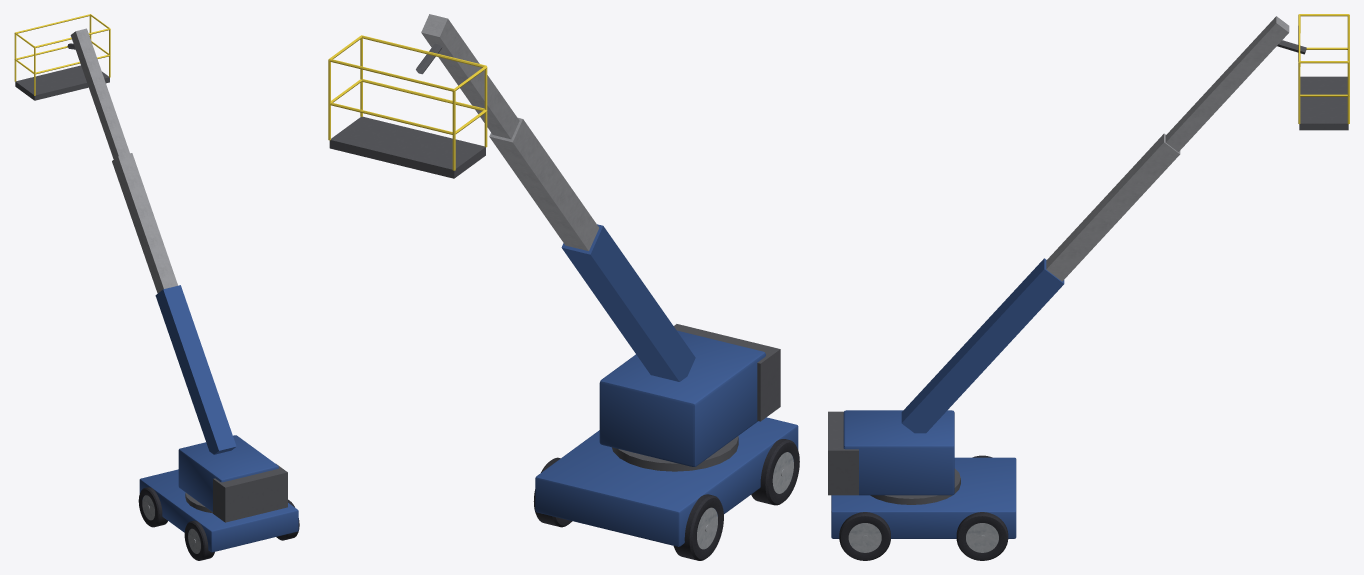
The model's file is lift_boom_blue.gltf.
3 renders of one model, left to right at view 1: azimuth 30°, elevation 25°; view 2: azimuth 150°, elevation 25°; view 3: azimuth 270°, elevation 25°, orthographic. The views are drawn at different scales.
Visible parts, largest first — view 1: lift_boom_blue; view 2: lift_boom_blue; view 3: lift_boom_blue.
Boxes of the visible parts, left/top/right/bottom form: lift_boom_blue: left=14, top=14, right=299, bottom=560; lift_boom_blue: left=328, top=14, right=799, bottom=560; lift_boom_blue: left=828, top=14, right=1349, bottom=560.
Bounding box in the file's own units: 2.31 × 9.16 × 8.45.
Materials: 8 (5 with a texture image).
